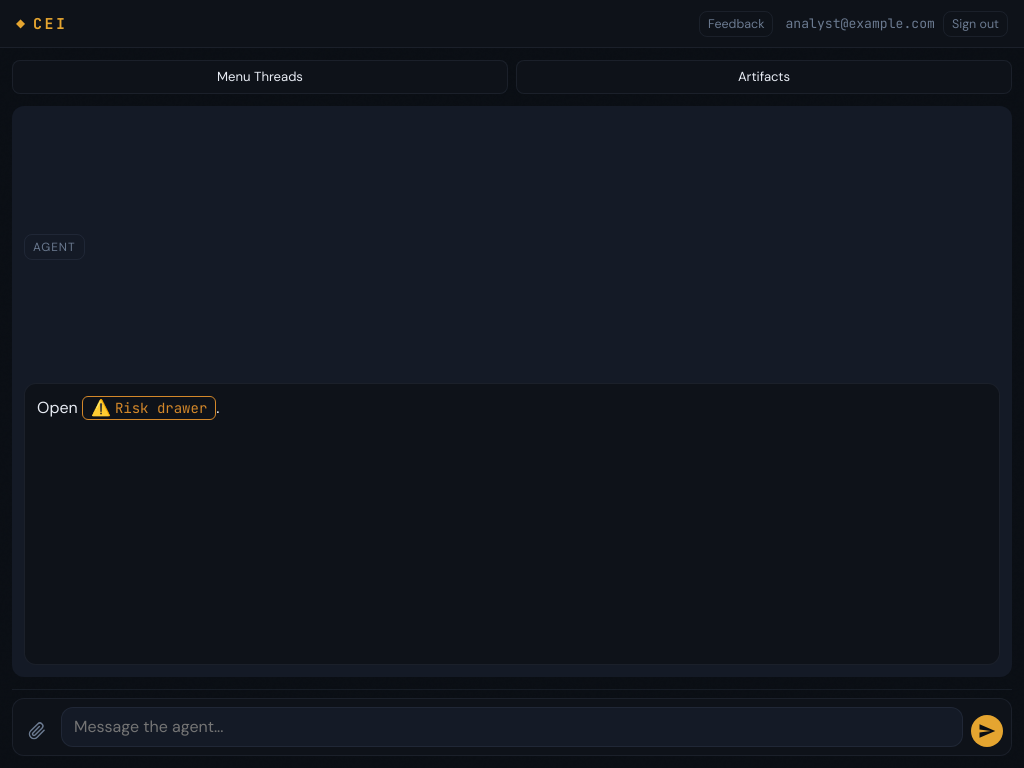
Test case: CommandCenter compact layout › uses Entity Detail as mobile drawer title when entity panel opens
Click the button "⚠️ Risk drawer".
click(149, 408)  # box [82,396,216,420]
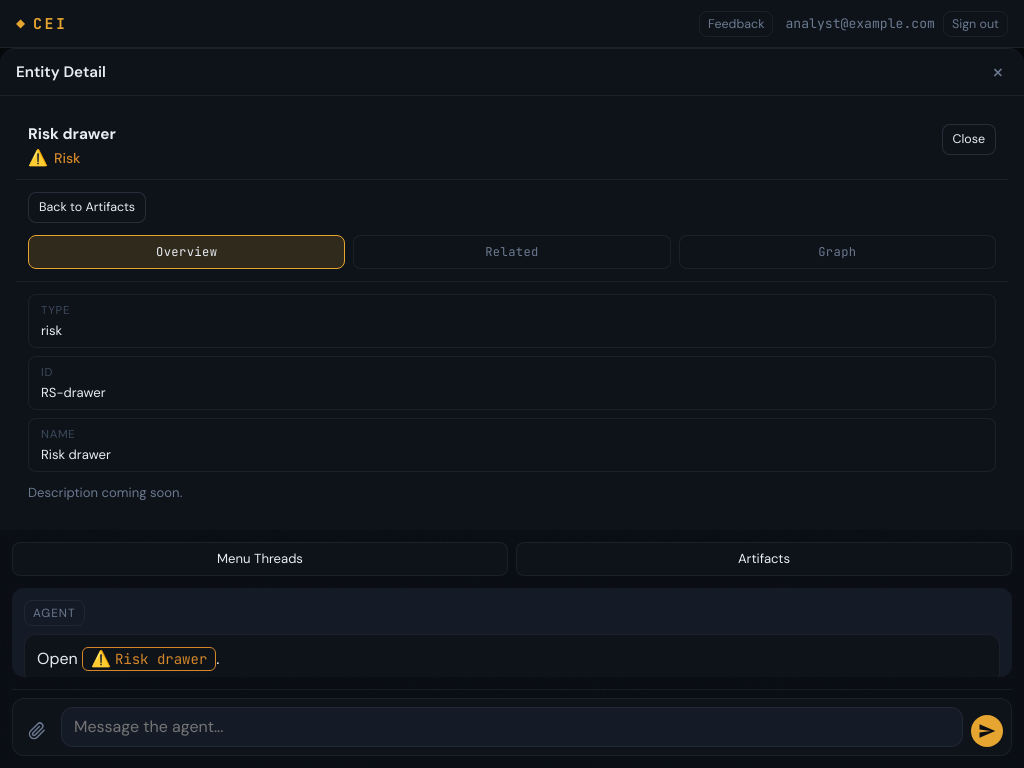
Expected: the dialog "Entity Detail" is shown
